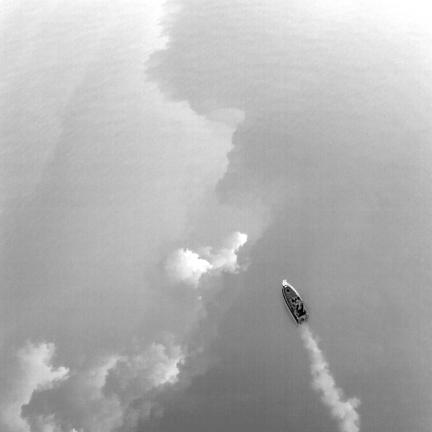flukeprints: (166, 248, 212, 285), (213, 232, 247, 272)
